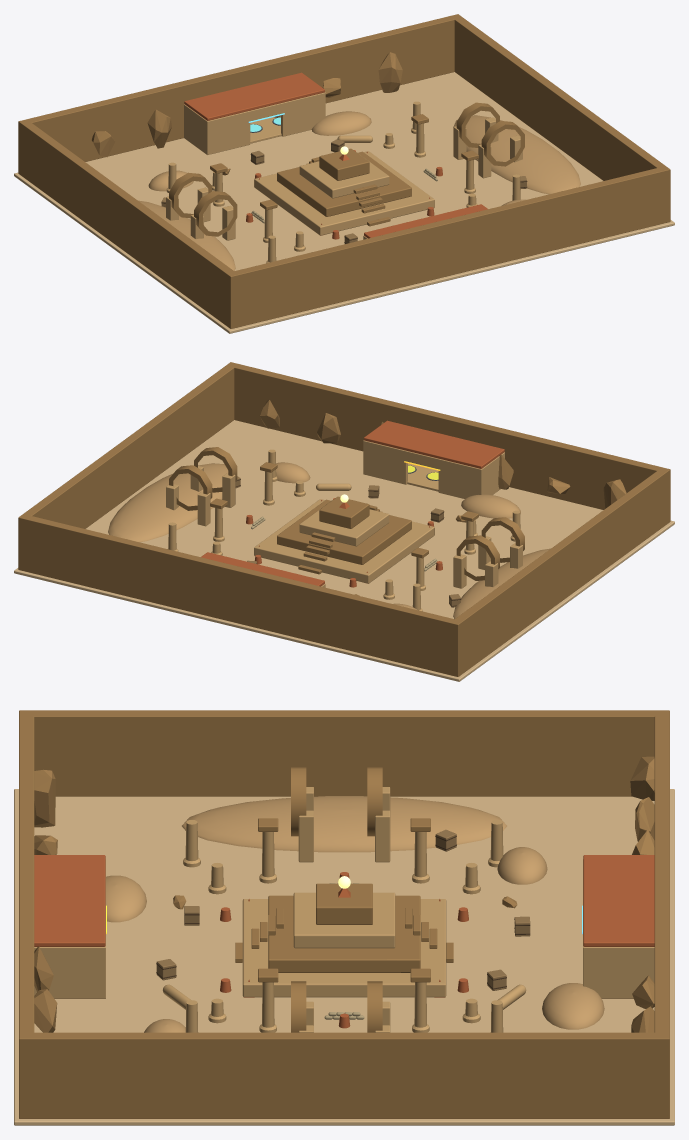
Rendered from desert_ruins.glb.
3 renders of one model, top to bottom at view 1: azimuth 30°, elevation 25°; view 2: azimuth 150°, elevation 25°; view 3: azimuth 270°, elevation 25°, orthographic. The views are drawn at different scales.
Parts seen in each view (by area): view 1: ground, cliff_south, cliff_north, cliff_west, cliff_east, dune_1, zig_tier_0, spawn_B_roof, zig_tier_1, zig_tier_2, spawn_B_front_L, spawn_B_front_R (+12 smaller); view 2: ground, cliff_north, cliff_south, cliff_west, cliff_east, dune_1, zig_tier_0, spawn_A_roof, zig_tier_1, zig_tier_2, spawn_A_front_R, spawn_A_front_L (+12 smaller); view 3: ground, cliff_east, cliff_west, dune_0, zig_tier_0, spawn_A_roof, spawn_B_roof, cliff_north, cliff_south, zig_tier_1, zig_tier_2, spawn_B_side_R (+21 smaller).
Boxes of the visible parts, box(x1,y1,x2,y2) form: ground: box(14, 72, 674, 333); cliff_south: box(226, 166, 670, 328); cliff_north: box(18, 14, 461, 176); cliff_west: box(19, 120, 238, 328); cliff_east: box(451, 14, 670, 222); dune_1: box(453, 115, 580, 194); zig_tier_0: box(254, 151, 434, 235); spawn_B_roof: box(184, 72, 324, 120); zig_tier_1: box(277, 151, 411, 216); zig_tier_2: box(299, 153, 389, 198); spawn_B_front_L: box(205, 111, 250, 154); spawn_B_front_R: box(281, 93, 325, 136); ground: box(14, 420, 674, 681); cliff_north: box(18, 514, 462, 676); cliff_south: box(227, 362, 670, 523); cliff_west: box(450, 468, 670, 676); cliff_east: box(18, 363, 237, 571); dune_1: box(108, 463, 228, 542); zig_tier_0: box(254, 499, 434, 583); spawn_A_roof: box(364, 420, 504, 468); zig_tier_1: box(277, 499, 411, 564); zig_tier_2: box(299, 501, 389, 546); spawn_A_front_R: box(363, 441, 407, 484); spawn_A_front_L: box(438, 459, 483, 498); ground: box(14, 789, 674, 1125); cliff_east: box(19, 1032, 669, 1118); cliff_west: box(19, 710, 668, 796); dune_0: box(182, 796, 506, 852); zig_tier_0: box(242, 899, 446, 997); spawn_A_roof: box(34, 855, 105, 946); spawn_B_roof: box(583, 855, 654, 946); cliff_north: box(654, 710, 669, 1118); cliff_south: box(19, 710, 34, 1118); zig_tier_1: box(268, 895, 420, 972); zig_tier_2: box(293, 892, 395, 948); spawn_B_side_R: box(583, 946, 654, 998).
Size of the model in its own units: 62 by 8.8 by 52.
